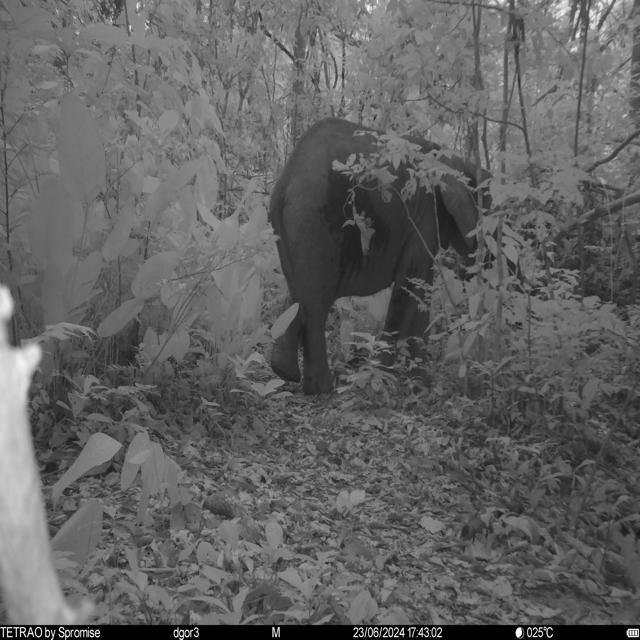ear: (434, 150, 480, 248)
elephant: (266, 114, 522, 398)
